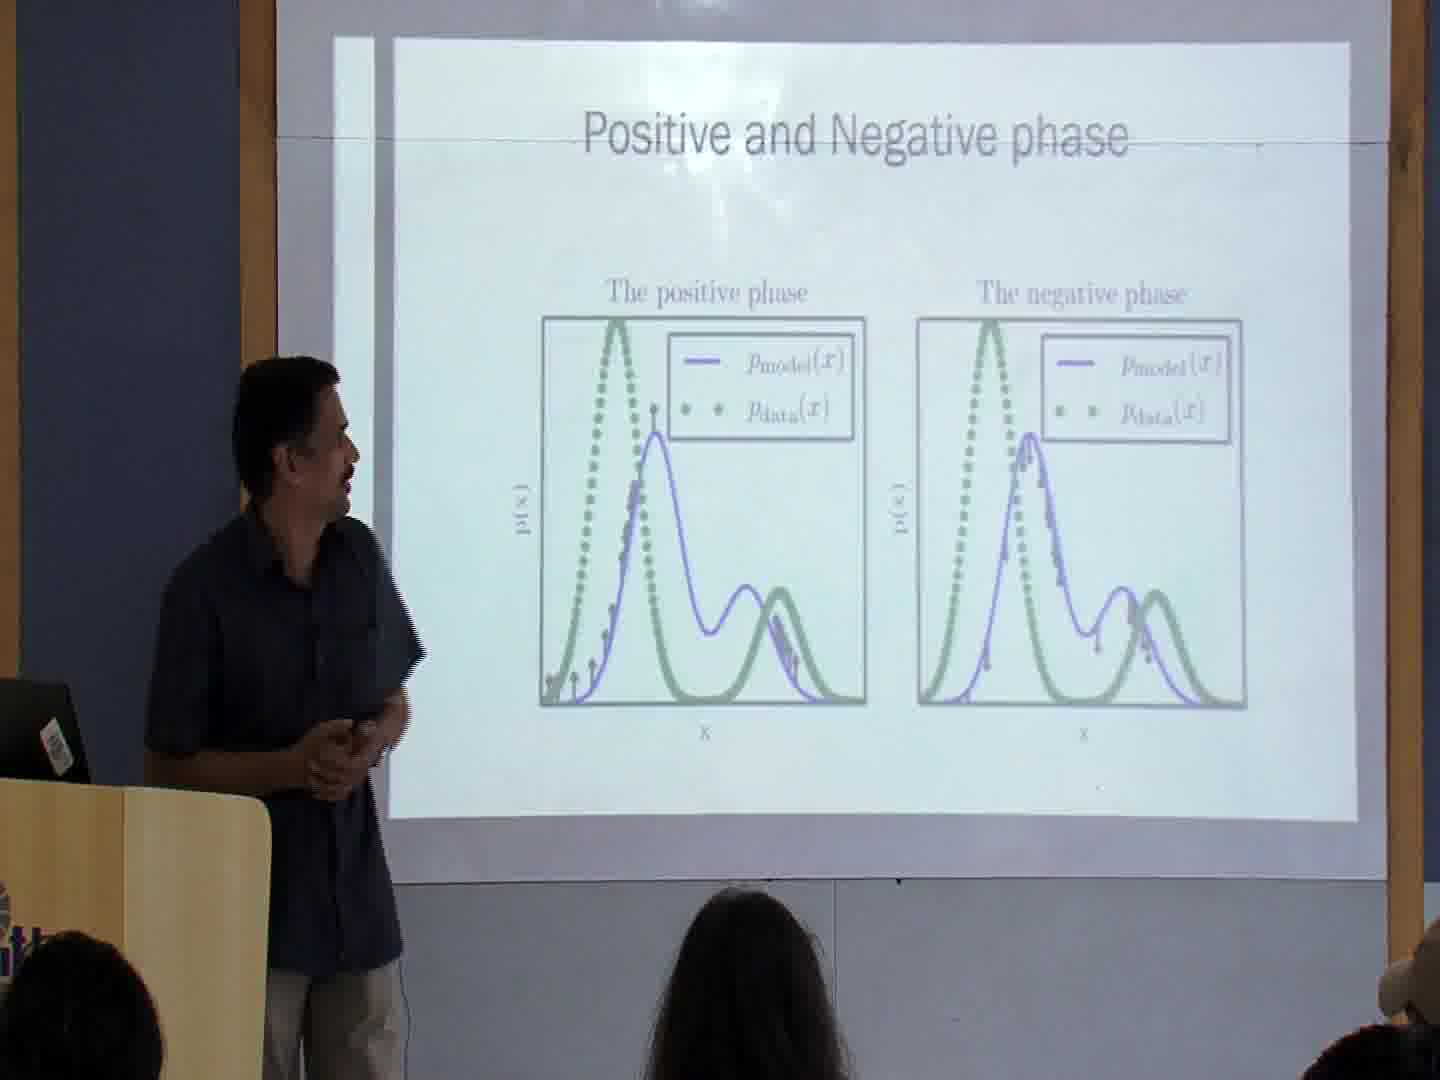fig: (543, 317, 867, 702)
